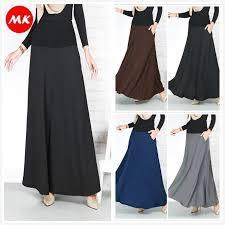dress: (21, 3, 97, 194), (112, 6, 168, 99), (172, 6, 224, 106), (116, 115, 166, 208), (167, 114, 217, 207)
